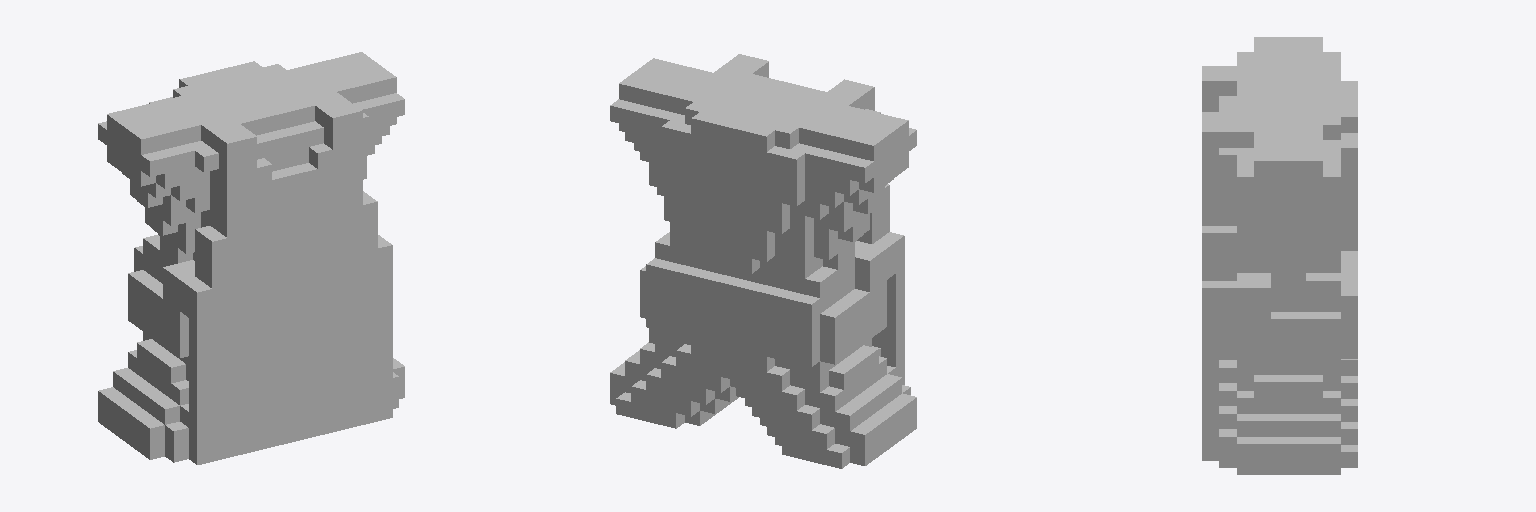
Rendered from smithtorso.obj.
3 renders of one model, left to right at view 1: azimuth 30°, elevation 25°; view 2: azimuth 150°, elevation 25°; view 3: azimuth 270°, elevation 25°, orthographic.
Parts seen in each view (by area): view 1: SamAsBlacksmith; view 2: SamAsBlacksmith; view 3: SamAsBlacksmith.
Boxes of the visible parts, <box> form: SamAsBlacksmith: <box>98,52,404,464</box>; SamAsBlacksmith: <box>610,54,916,468</box>; SamAsBlacksmith: <box>1202,37,1357,474</box>.
Size of the model in its own units: 17 by 20 by 9.